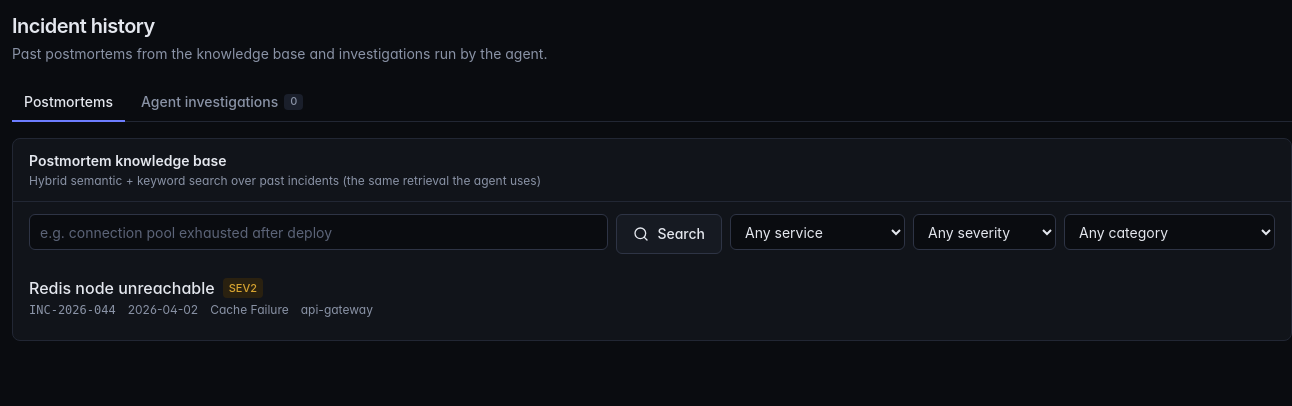
IncidentsPage › runs a semantic search with filters
Type "redis down" into the field named "Search incidents".
click(319, 232); type("redis down")  # box [29,214,608,250]
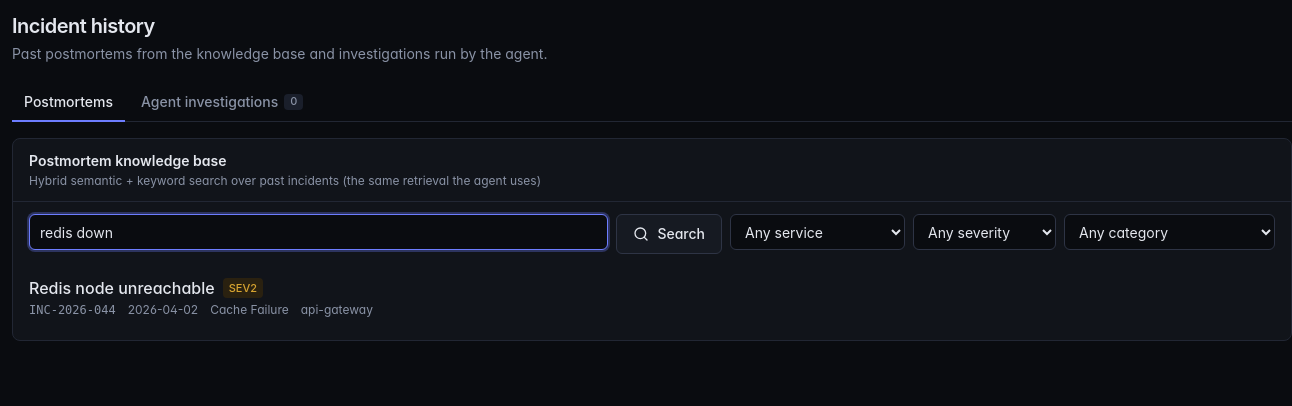
Select "SEV2" in the 2nd dropdown named "Severity" at (984, 232), box [913,214,1056,250]
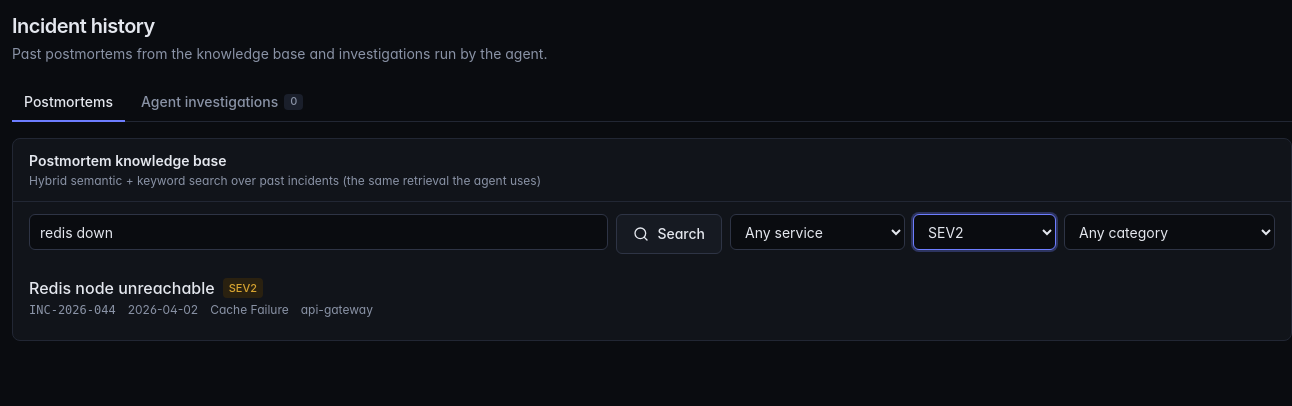
Click the button "Search".
click(669, 234)  # box [616,214,722,254]
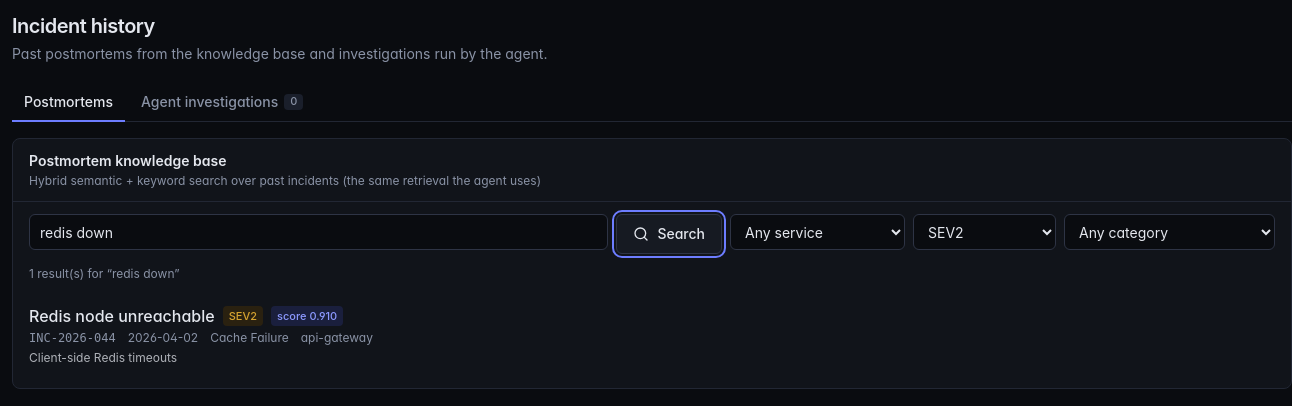
Result: the text "Client-side Redis timeouts" is shown at [29,350,177,365]
